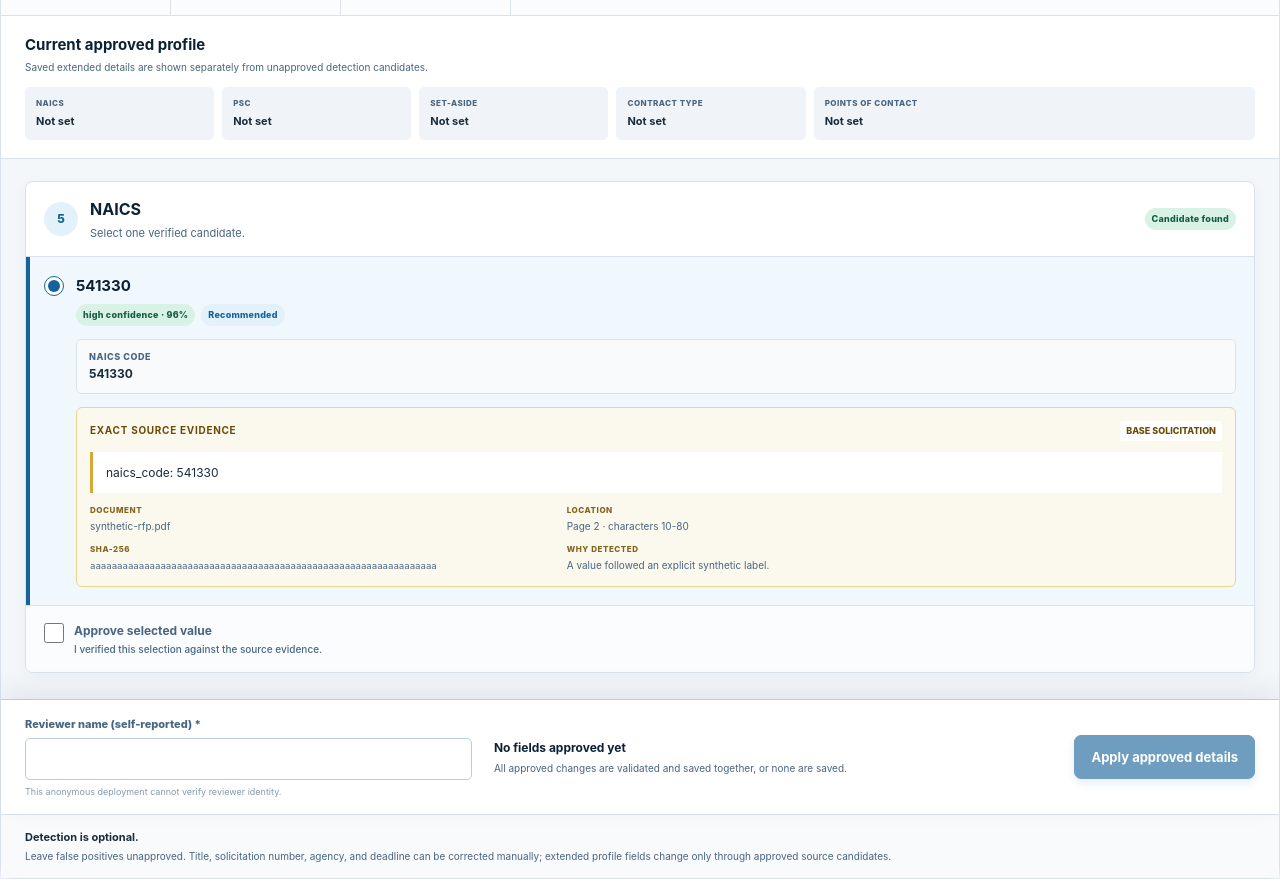
solicitation details review › applies only approved fields atomically and exposes the exact current candidate and profile
(page scrolled)
Expected: the element "NAICS" is shown, [25,181,1255,673]
Click the checkbox labelled "Approve selected value" at {"x": 54, "y": 633}, box [44,623,64,643]
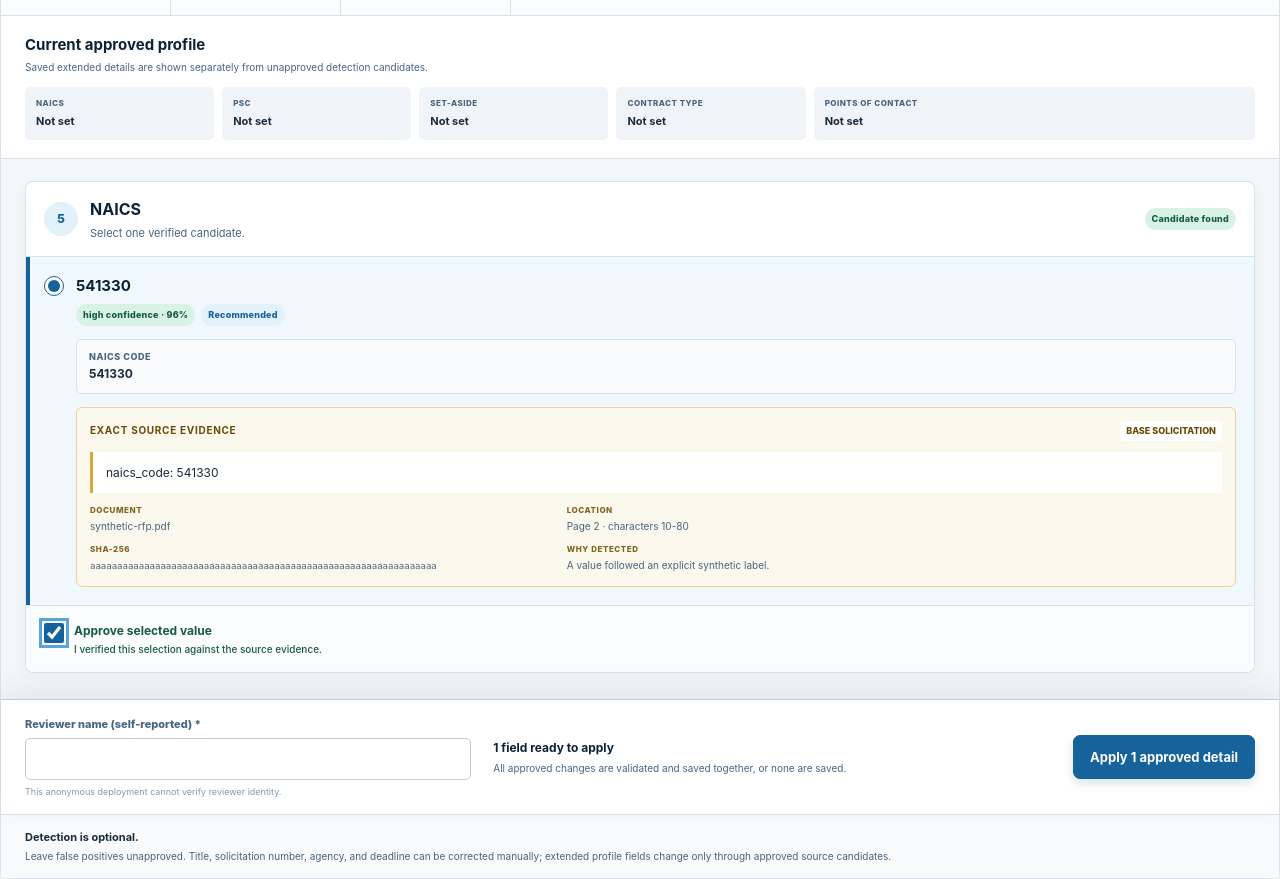
Type "Synthetic Reviewer" into the field labelled "Reviewer name (self-reported) *" at {"x": 248, "y": 759}, box [25,738,471,780]
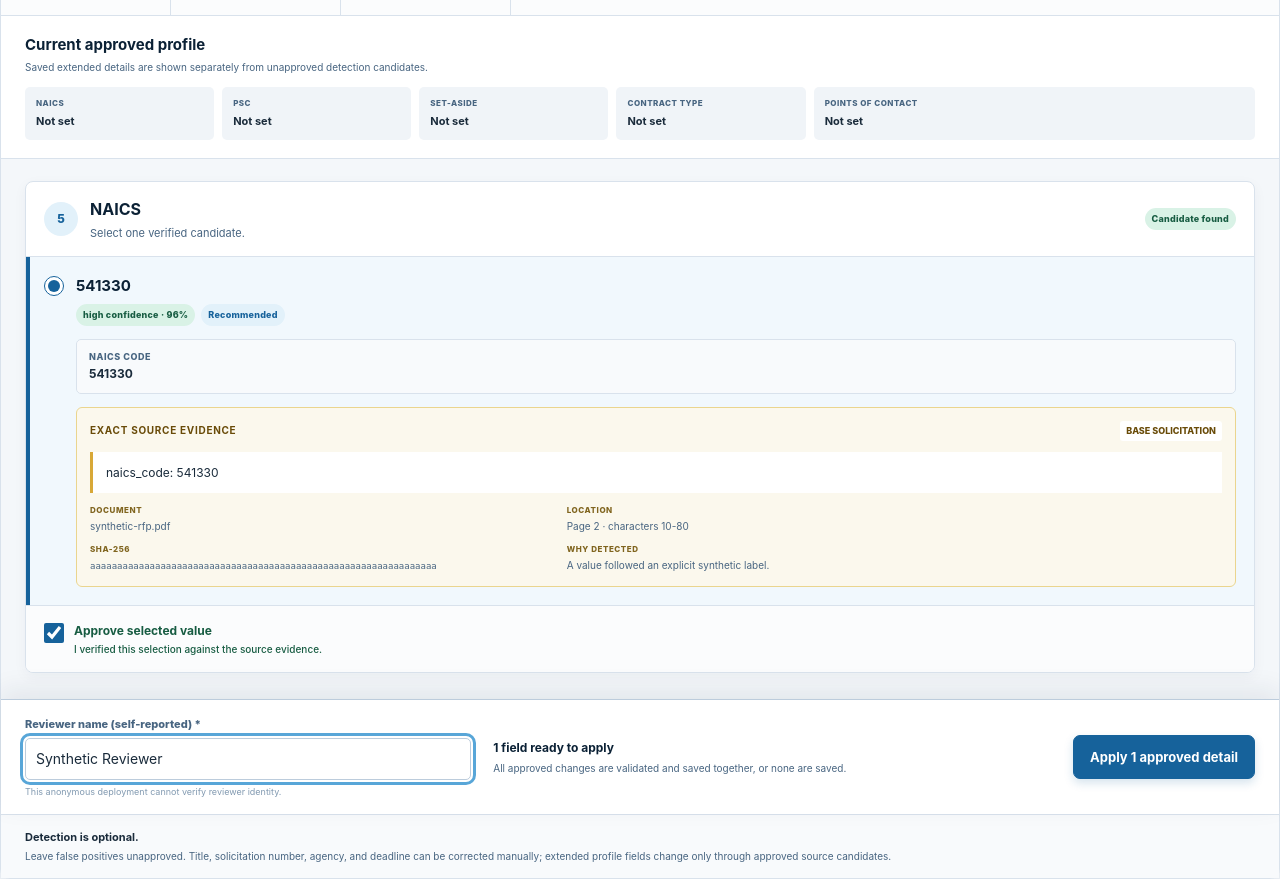
Click the button "Apply 1 approved detail" at {"x": 1164, "y": 757}, box [1073,735,1255,779]
(page scrolled)
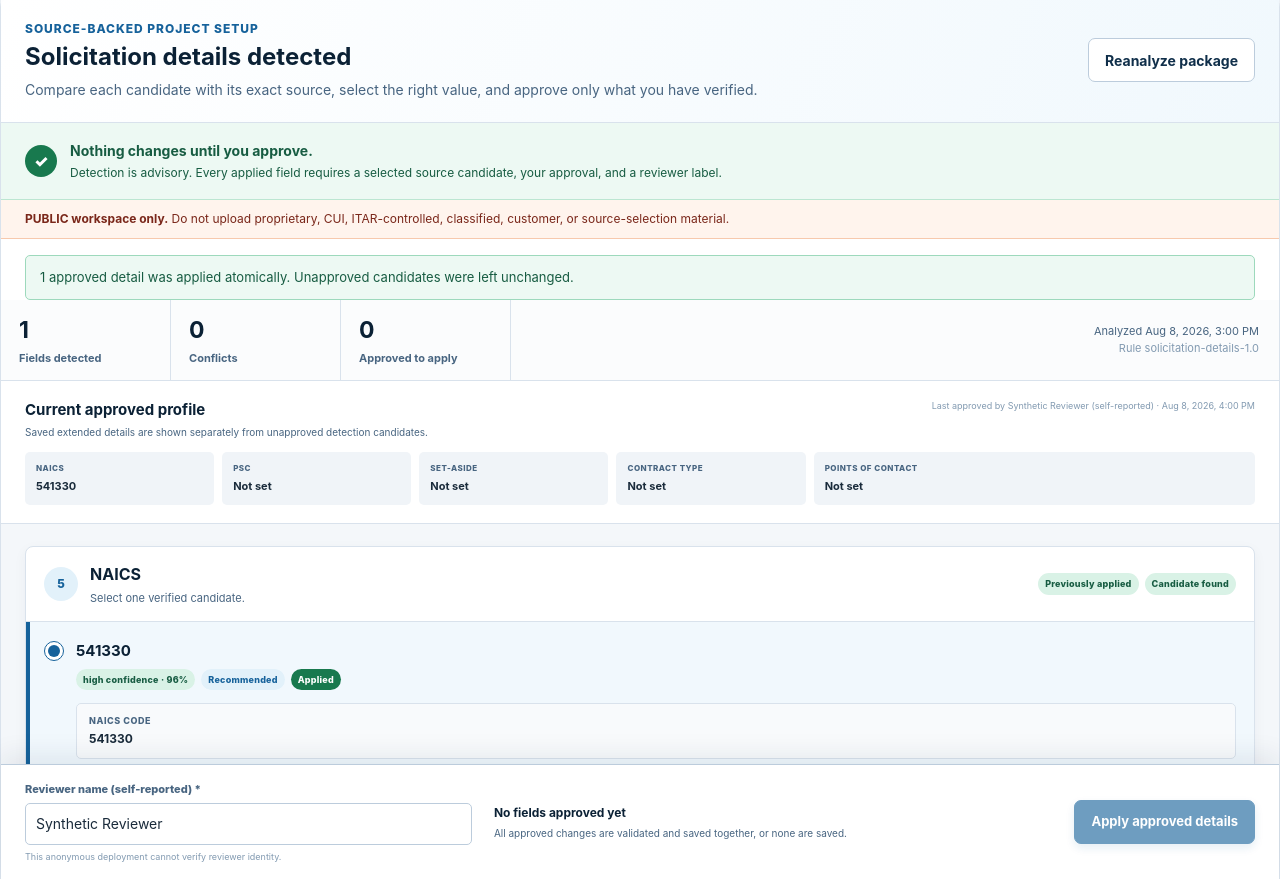
Expected: the text "541330" below "PSC" is shown, [36,479,76,493]
Expected: the text "Applied" is shown, [291,669,341,690]
Expected: the text "Last approved by Synthetic Reviewer (self-reported)" is shown, [932,399,1255,412]
